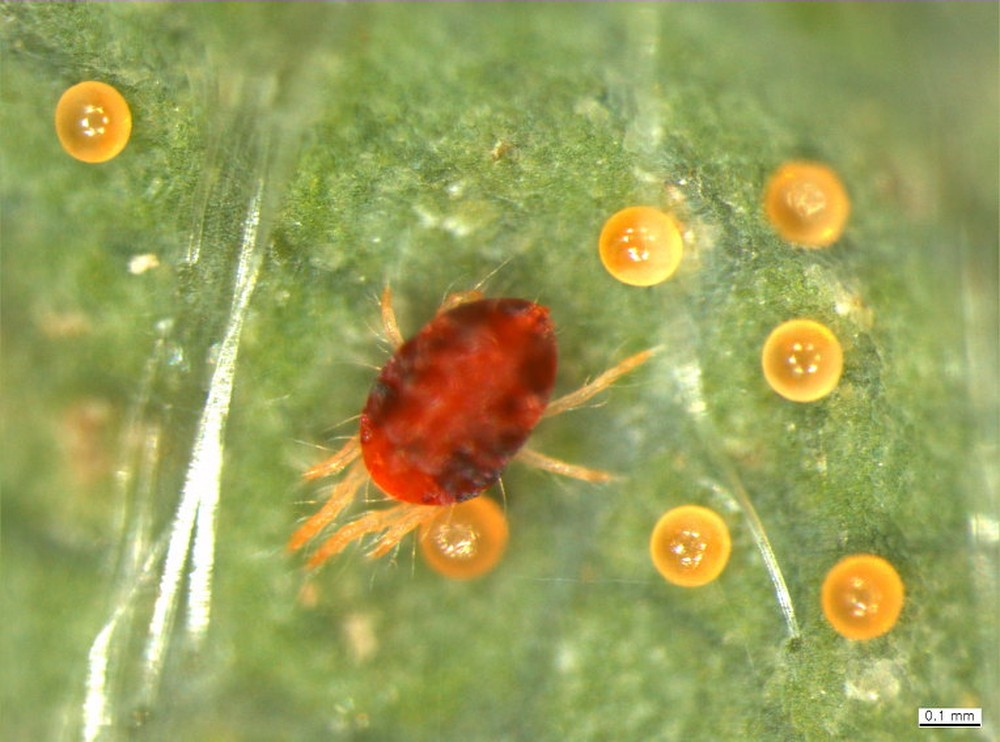Aracnido Rojo: (301, 280, 642, 566)
